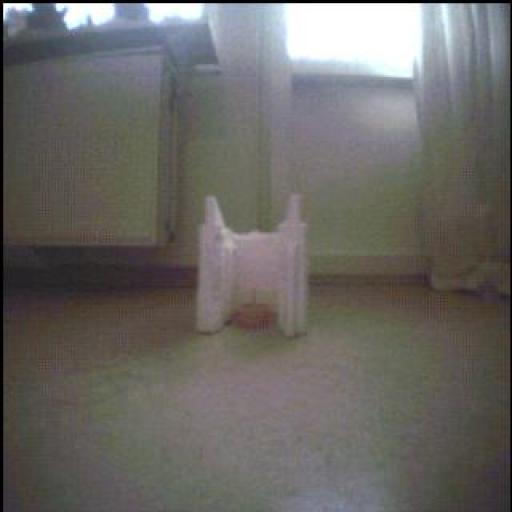Basket: (232, 304, 277, 333)
